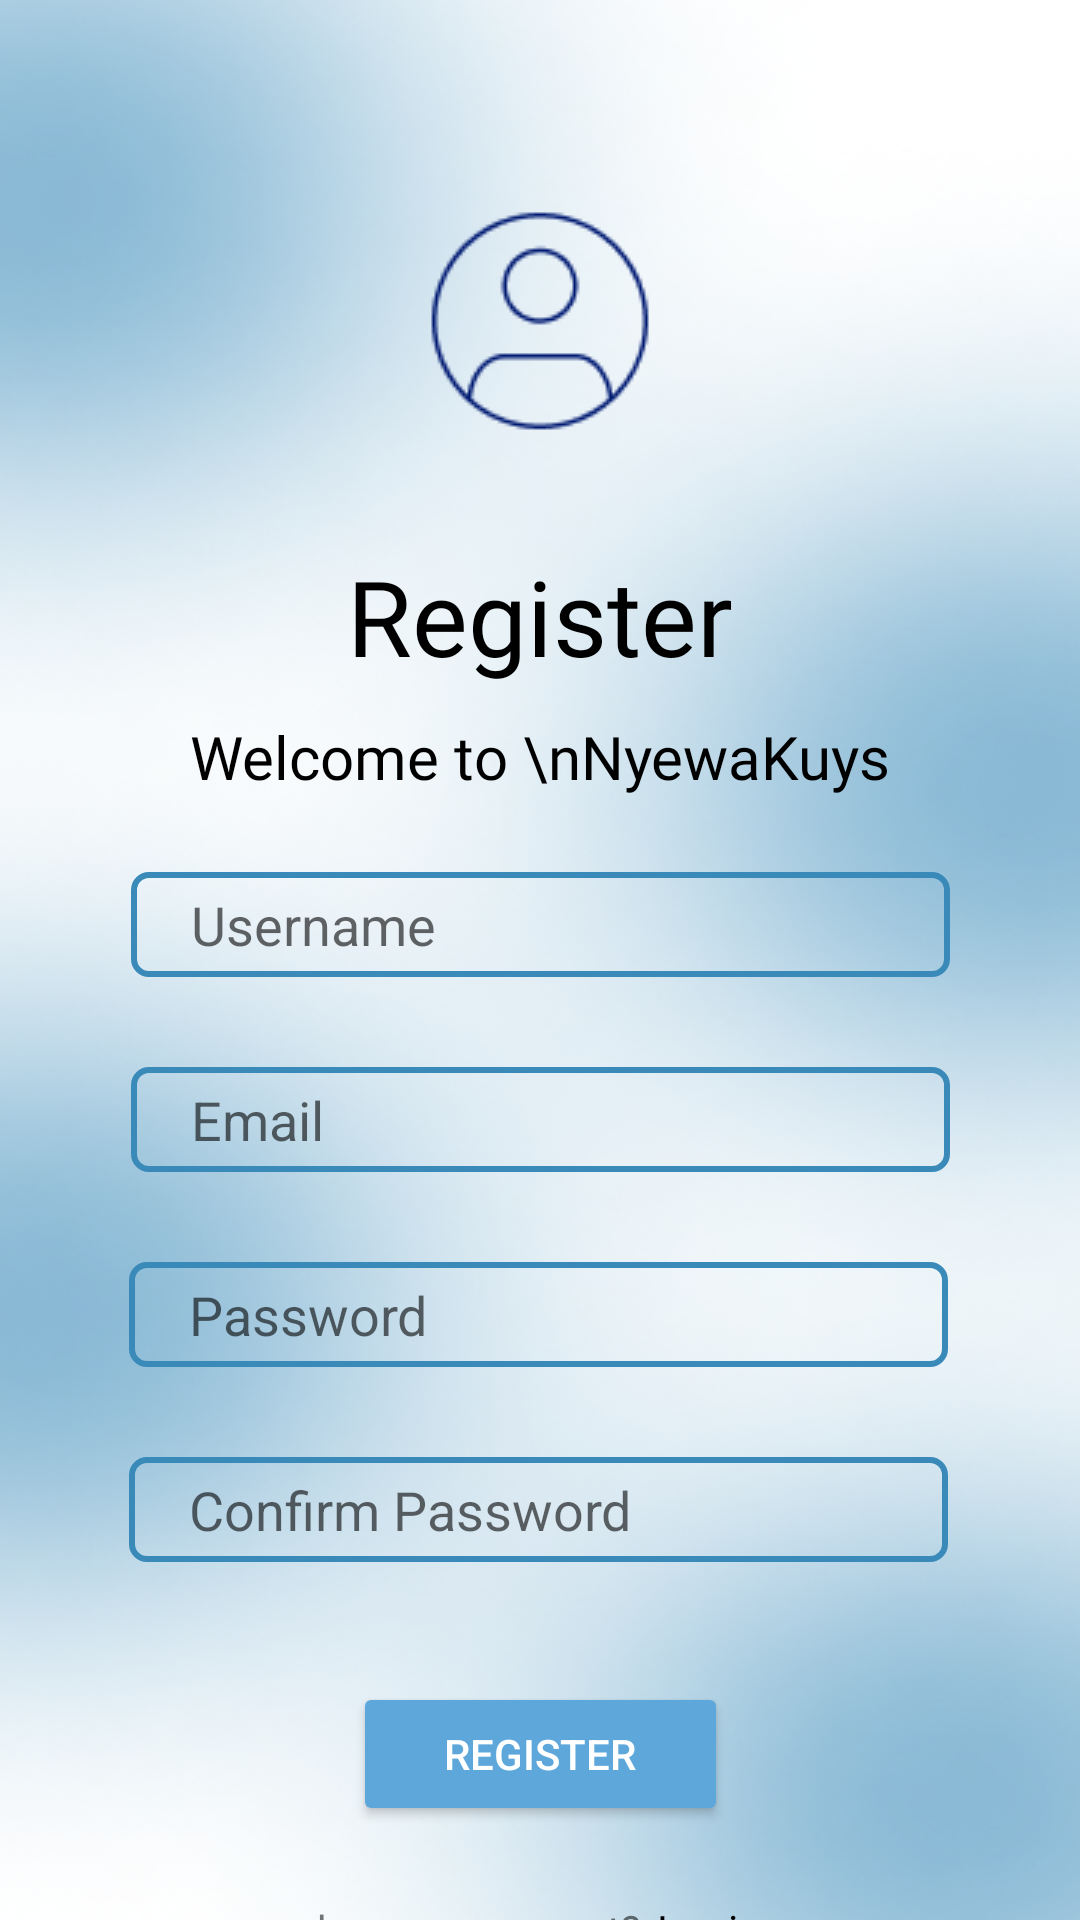

Named icons in this screenshot (1080px x 1920px) and their bounding boxes, {"left": x1, "top": y1, "right": x2, "bottom": y2}:
user: {"left": 399, "top": 180, "right": 681, "bottom": 462}
